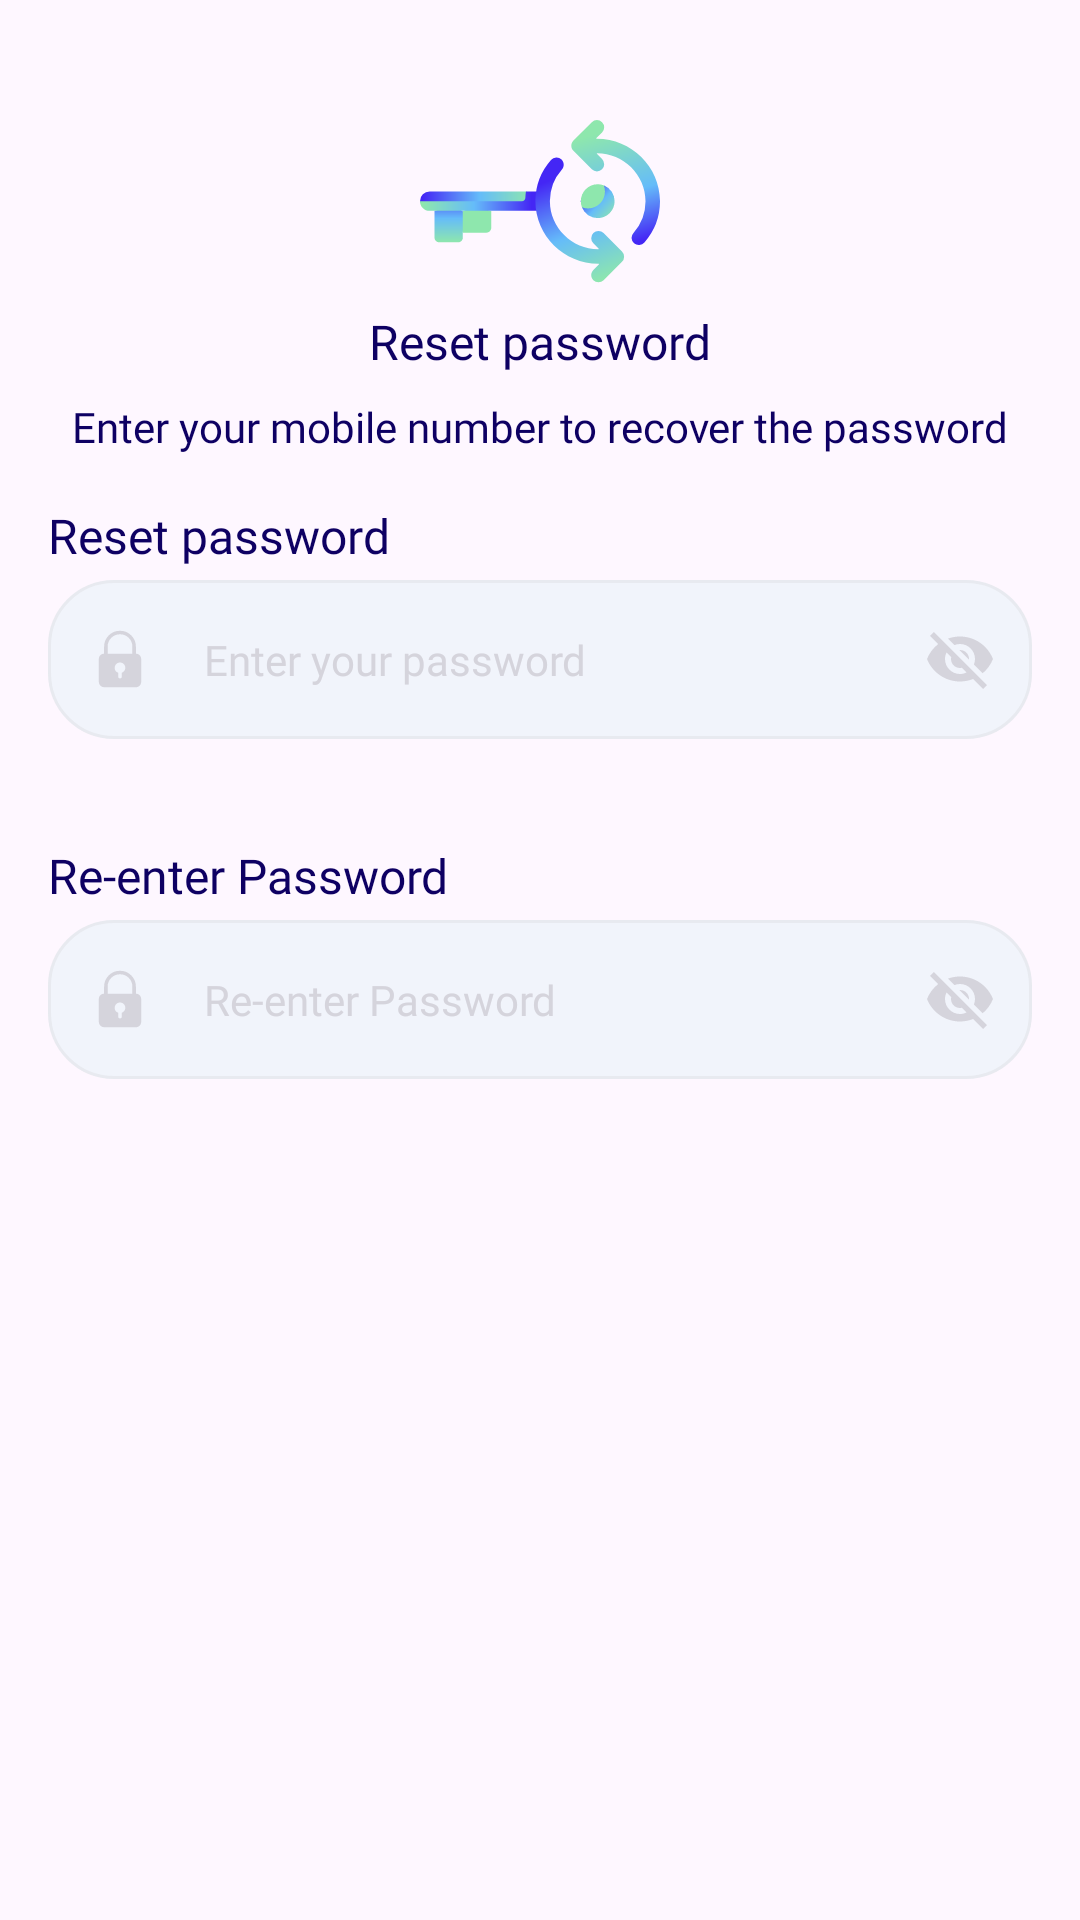

Point at icon controls on the screen. Image size 1080w x 1920h, points as (x=x, y=y).
key: (x=540, y=201)
